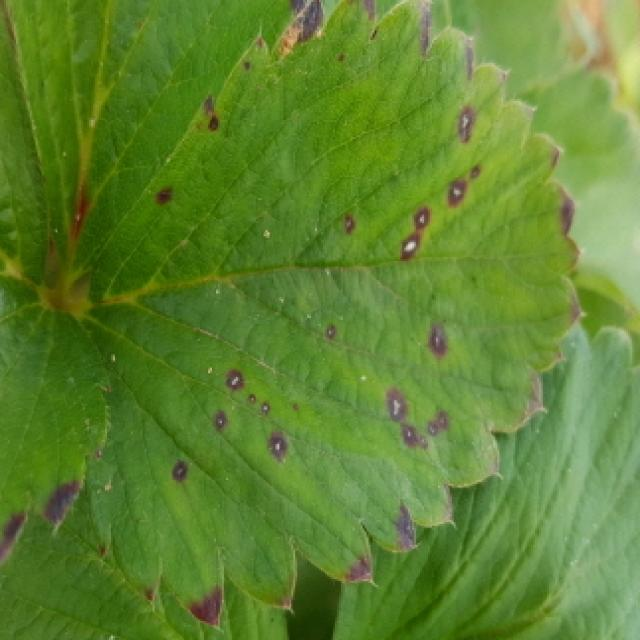Leaf Spot: (68, 0, 587, 632), (5, 0, 310, 286)
